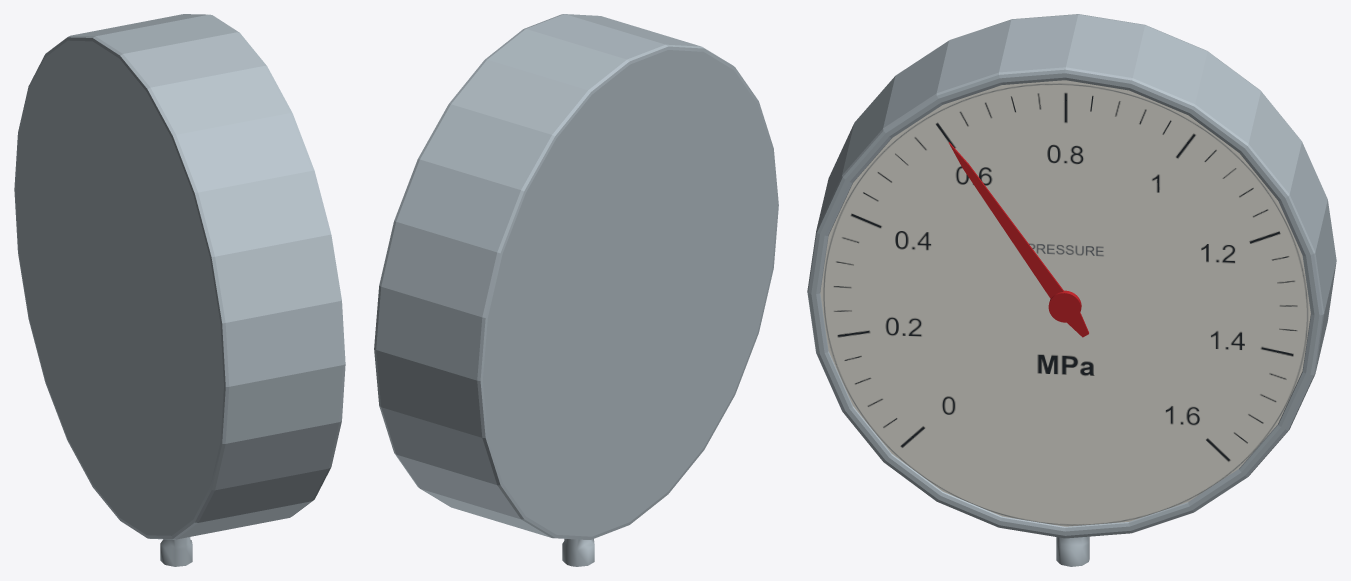
The model's file is 压力表_独立指针.glb.
3 renders of one model, left to right at view 1: azimuth 30°, elevation 25°; view 2: azimuth 150°, elevation 25°; view 3: azimuth 270°, elevation 25°, orthographic.
Visible parts, largest first — view 1: 压力表_表壳, 压力表_过程接头; view 2: 压力表_表壳, 压力表_过程接头; view 3: 压力表_表盘, 压力表_表壳, 指针, 压力表_过程接头.
Boxes of the visible parts, <box> form: 压力表_表壳: <box>14,14,345,539</box>; 压力表_过程接头: <box>160,537,192,566</box>; 压力表_表壳: <box>374,14,778,539</box>; 压力表_过程接头: <box>562,539,594,566</box>; 压力表_表盘: <box>820,80,1310,526</box>; 压力表_表壳: <box>807,14,1336,538</box>; 指针: <box>949,142,1088,337</box>; 压力表_过程接头: <box>1056,536,1089,566</box>.
Size of the model in its own units: 0.0249 by 0.0779 by 0.0718.
4 materials, 1 textured.
